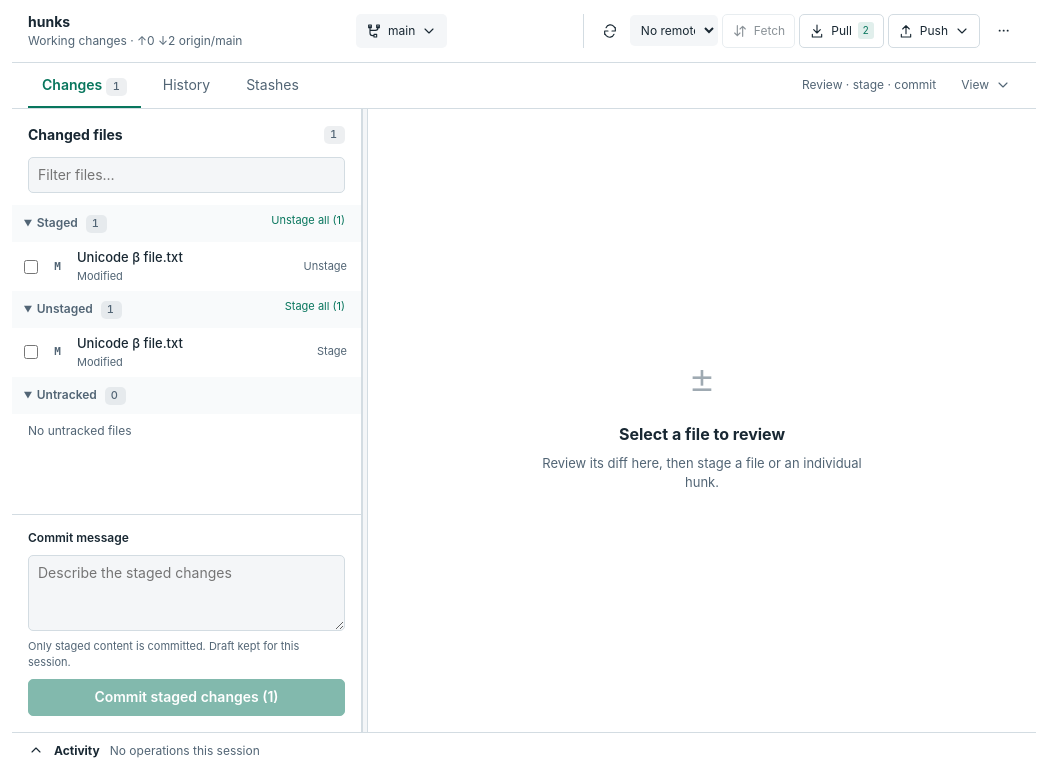
it: working hunk actions (mocked IPC) › rejects an eligible delayed plan after context changes the inspected snapshot
This screenshot has width=1048, height=768.
Click the button "M Unicode β file.txt Modified" below "Unstaged": (176, 352) [42,328,309,377]
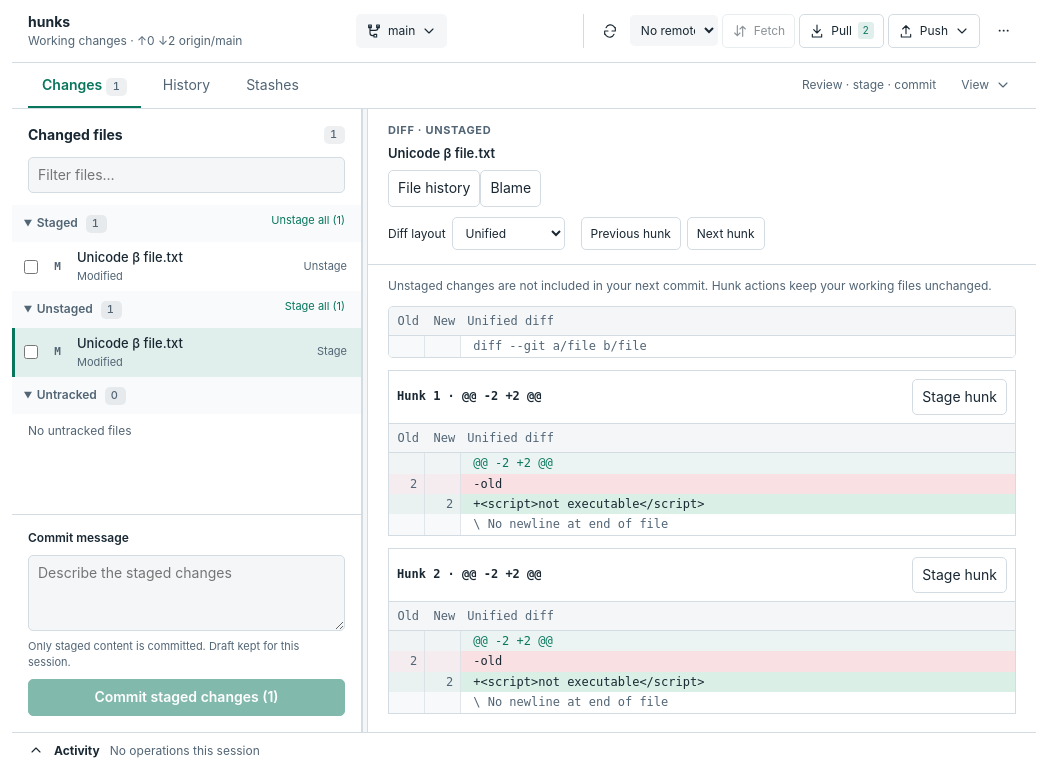
expect the element labelled "Hunk 2" is shown: met, box [388,548,1016,714]
Click the 1st button "Stage hunk": (960, 397) [912,379,1007,415]
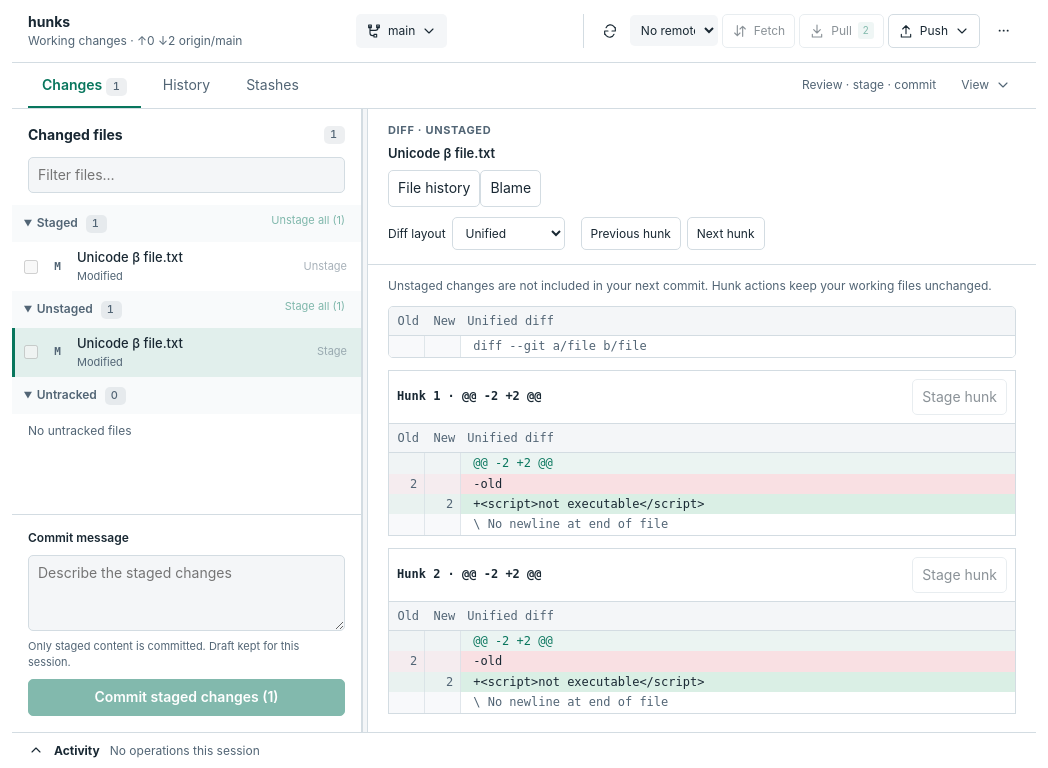
Click the 1st button "M Unicode β file.txt Modified": (169, 267) [42,242,296,291]
(page scrolled)
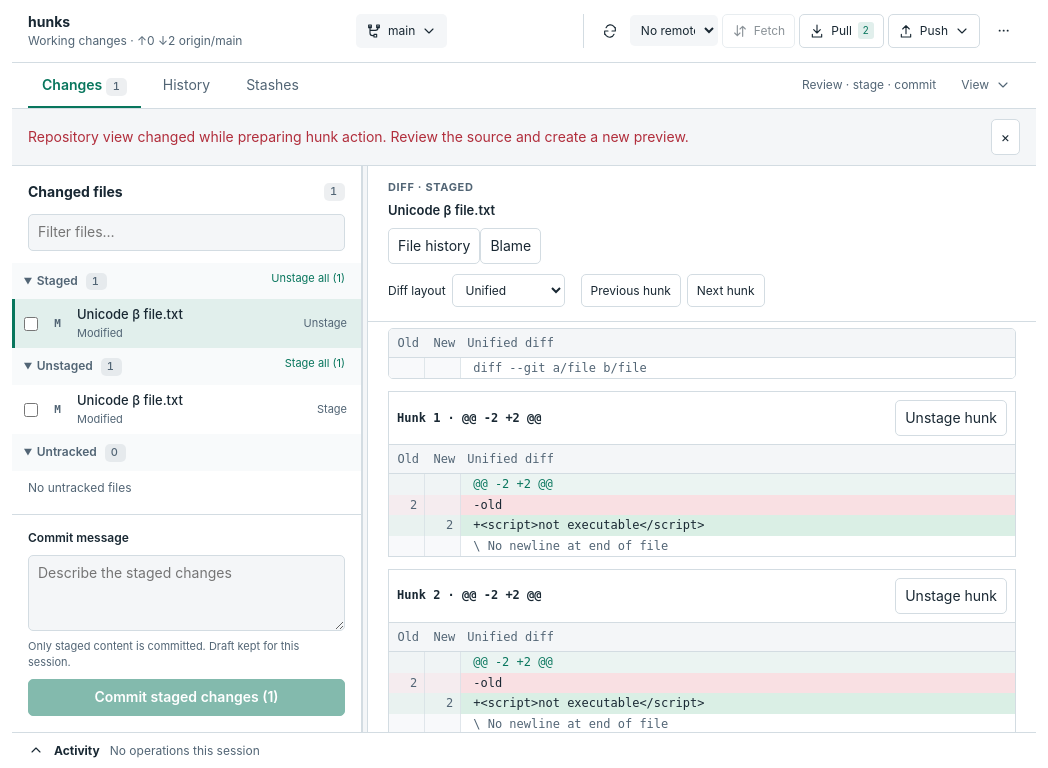
expect the text "Repository view changed while preparing hunk action" is shown: met, box [28,128,689,145]
expect the element named "File diff" shows "Diff · staged": met, box [368,166,1036,732]
